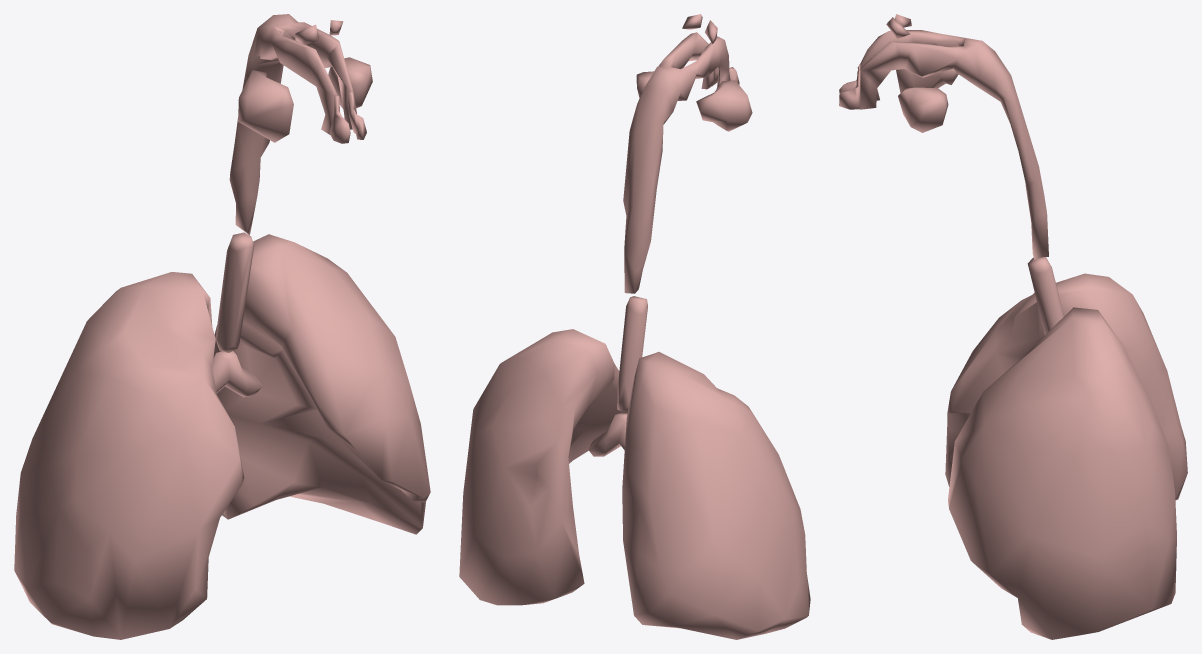
The model's file is pediatric_child_10y_female.respiratory.LOD3.glb.
3 views of the same model, side by side, from view 1: azimuth 30°, elevation 25°; view 2: azimuth 150°, elevation 25°; view 3: azimuth 270°, elevation 25° (orthographic). The views are drawn at different scales.
Parts seen in each view (by area): view 1: PEDIATRIC.CHILD_10Y.FEMALE.RESPIRATORY.LUNG.R, PEDIATRIC.CHILD_10Y.FEMALE.RESPIRATORY.LUNG.L, PEDIATRIC.CHILD_10Y.FEMALE.RESPIRATORY.ET2, PEDIATRIC.CHILD_10Y.FEMALE.RESPIRATORY.TRACHEA, PEDIATRIC.CHILD_10Y.FEMALE.RESPIRATORY.BB1, PEDIATRIC.CHILD_10Y.FEMALE.RESPIRATORY.ET1; view 2: PEDIATRIC.CHILD_10Y.FEMALE.RESPIRATORY.LUNG.R, PEDIATRIC.CHILD_10Y.FEMALE.RESPIRATORY.LUNG.L, PEDIATRIC.CHILD_10Y.FEMALE.RESPIRATORY.ET2, PEDIATRIC.CHILD_10Y.FEMALE.RESPIRATORY.TRACHEA, PEDIATRIC.CHILD_10Y.FEMALE.RESPIRATORY.BB1; view 3: PEDIATRIC.CHILD_10Y.FEMALE.RESPIRATORY.LUNG.L, PEDIATRIC.CHILD_10Y.FEMALE.RESPIRATORY.LUNG.R, PEDIATRIC.CHILD_10Y.FEMALE.RESPIRATORY.ET2, PEDIATRIC.CHILD_10Y.FEMALE.RESPIRATORY.TRACHEA, PEDIATRIC.CHILD_10Y.FEMALE.RESPIRATORY.ET1.
Part boxes in pixels (x1,y1,x2,y2): PEDIATRIC.CHILD_10Y.FEMALE.RESPIRATORY.LUNG.R: (14,272,244,639); PEDIATRIC.CHILD_10Y.FEMALE.RESPIRATORY.LUNG.L: (213,234,430,534); PEDIATRIC.CHILD_10Y.FEMALE.RESPIRATORY.ET2: (229,14,372,235); PEDIATRIC.CHILD_10Y.FEMALE.RESPIRATORY.TRACHEA: (215,232,254,352); PEDIATRIC.CHILD_10Y.FEMALE.RESPIRATORY.BB1: (212,351,262,397); PEDIATRIC.CHILD_10Y.FEMALE.RESPIRATORY.ET1: (329,90,366,143); PEDIATRIC.CHILD_10Y.FEMALE.RESPIRATORY.LUNG.R: (622,352,810,639); PEDIATRIC.CHILD_10Y.FEMALE.RESPIRATORY.LUNG.L: (459,329,627,605); PEDIATRIC.CHILD_10Y.FEMALE.RESPIRATORY.ET2: (623,14,752,293); PEDIATRIC.CHILD_10Y.FEMALE.RESPIRATORY.TRACHEA: (617,296,647,411); PEDIATRIC.CHILD_10Y.FEMALE.RESPIRATORY.BB1: (588,412,627,456); PEDIATRIC.CHILD_10Y.FEMALE.RESPIRATORY.LUNG.L: (948,307,1176,639); PEDIATRIC.CHILD_10Y.FEMALE.RESPIRATORY.LUNG.R: (945,273,1187,500); PEDIATRIC.CHILD_10Y.FEMALE.RESPIRATORY.ET2: (860,14,1048,259); PEDIATRIC.CHILD_10Y.FEMALE.RESPIRATORY.TRACHEA: (1027,257,1064,334); PEDIATRIC.CHILD_10Y.FEMALE.RESPIRATORY.ET1: (839,63,860,109).
Size of the model in its own units: 0.1985 by 0.3066 by 0.1761.
